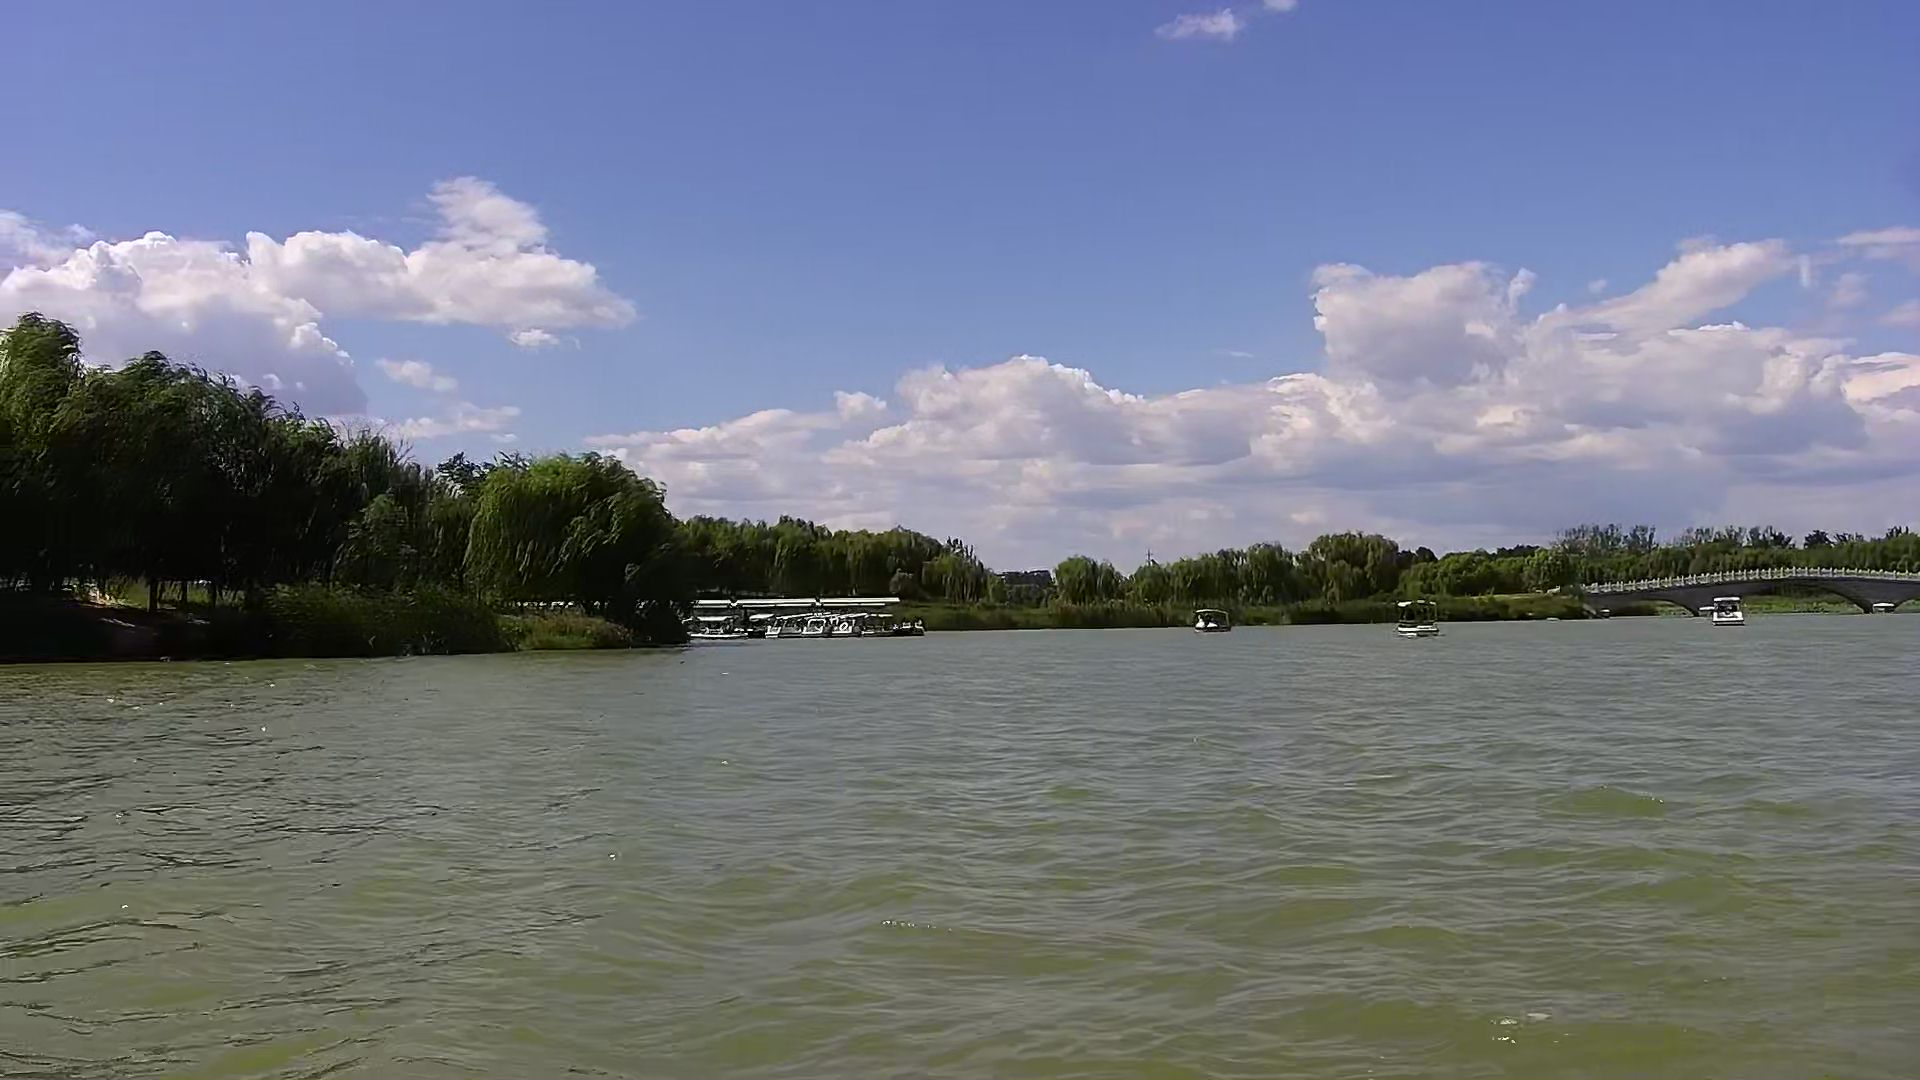boat: (825, 612, 903, 650), (1395, 593, 1441, 642), (1705, 589, 1755, 634), (795, 608, 837, 647), (1195, 604, 1240, 638), (767, 608, 804, 642)
bridge: (1585, 562, 1920, 611)
